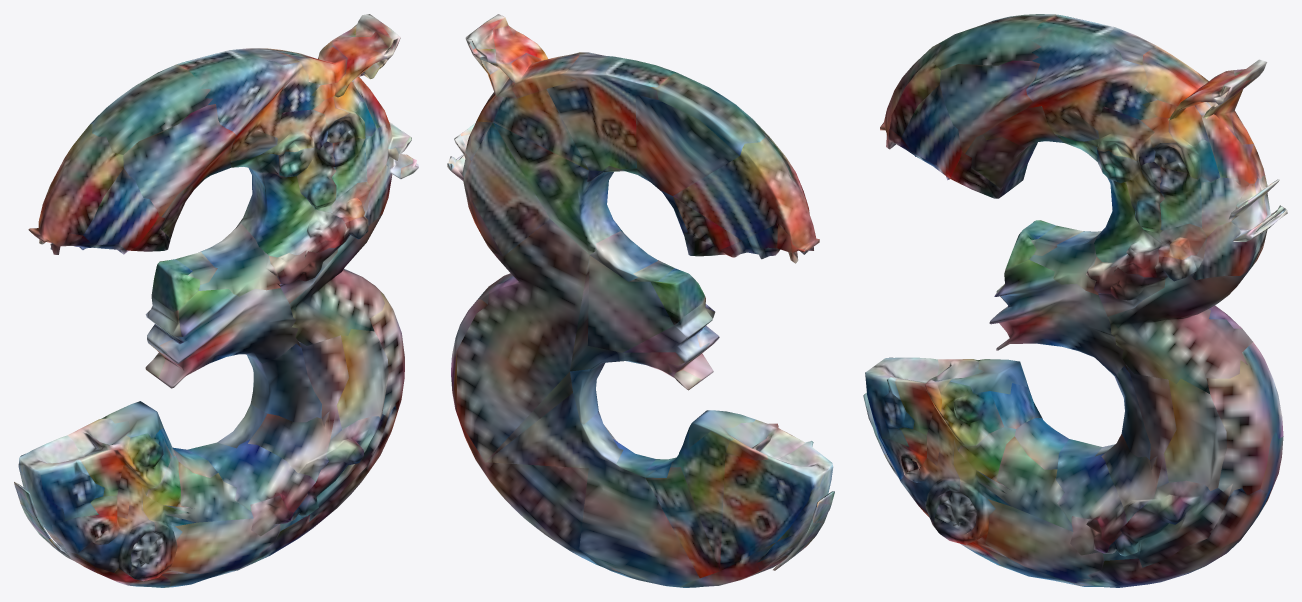
3 views of the same model, side by side, from view 1: azimuth 30°, elevation 25°; view 2: azimuth 150°, elevation 25°; view 3: azimuth 330°, elevation 25° (orthographic). The views are drawn at different scales.
Size of the model in its own units: 0.4221 by 0.5477 by 0.0842.
1 material, 1 textured.
